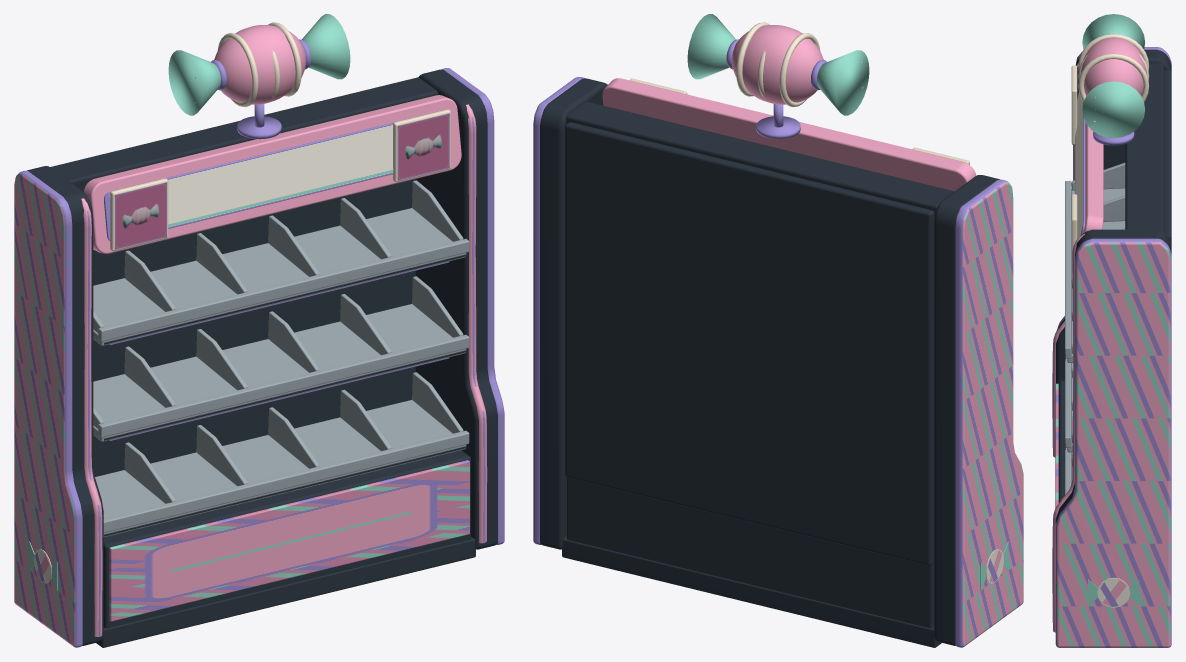
Rendered from TH_CANDY.fbx.
3 views of the same model, side by side, from view 1: azimuth 30°, elevation 25°; view 2: azimuth 150°, elevation 25°; view 3: azimuth 270°, elevation 25° (orthographic). The views are drawn at different scales.
Visible parts, largest first — view 1: BaseFrontInset, Left_PaintedPanel, BackPanel.001, Right_StructuralWall, Tray_01, Tray_02, Tray_03, HeaderFace, HeaderBorder, Left_StructuralWall, TopCrossRail, ClosedSolidBase (+36 smaller); view 2: BackPanel.001, Left_PaintedPanel, ClosedSolidBase, Right_StructuralWall, HeaderBorder, Left_StructuralWall, TopCrossRail, LowerPlinth, Glossy candy center, Right_PaintedPanel, Twisted wrapper, Twisted wrapper.001 (+2 smaller); view 3: Right_PaintedPanel, TopCrossRail, Twisted wrapper.001, Glossy candy center, HeaderBorder, Left_StructuralWall, BackPanel.001, HeaderFace, FrontLip_01, Twisted wrapper, RightHousing, Right_StructuralWall (+17 smaller).
Boxes of the visible parts, x1,y1,x2,y2 form: BaseFrontInset: (109,460,469,621); Left_PaintedPanel: (14,170,82,647); BackPanel.001: (93,179,415,476); Right_StructuralWall: (415,69,497,549); Tray_01: (93,208,466,345); Tray_02: (93,304,466,441); Tray_03: (95,400,466,537); HeaderFace: (104,111,437,240); HeaderBorder: (83,95,461,253); Left_StructuralWall: (27,166,103,645); TopCrossRail: (50,77,438,191); ClosedSolidBase: (103,450,470,628); BackPanel.001: (565,122,934,565); Left_PaintedPanel: (955,179,1023,647); ClosedSolidBase: (567,477,934,628); Right_StructuralWall: (540,78,607,549); HeaderBorder: (602,78,976,191); Left_StructuralWall: (934,175,999,645); TopCrossRail: (566,101,954,217); LowerPlinth: (562,537,941,647); Glossy candy center: (731,25,823,104); Right_PaintedPanel: (533,77,584,544); Twisted wrapper: (817,50,869,115); Twisted wrapper.001: (687,14,735,79); Right_PaintedPanel: (1055,238,1171,647); TopCrossRail: (1125,63,1163,231); Twisted wrapper.001: (1082,81,1144,138); Glossy candy center: (1080,37,1146,95); HeaderBorder: (1083,122,1103,232); Left_StructuralWall: (1056,49,1171,383); BackPanel.001: (1164,70,1171,244); HeaderFace: (1075,92,1085,238); FrontLip_01: (1065,180,1071,358); Twisted wrapper: (1082,14,1144,49); RightHousing: (1052,233,1084,632); Right_StructuralWall: (1055,229,1171,523).
Bounding box in the file's own units: 3.62 × 4.41 × 0.9273.
